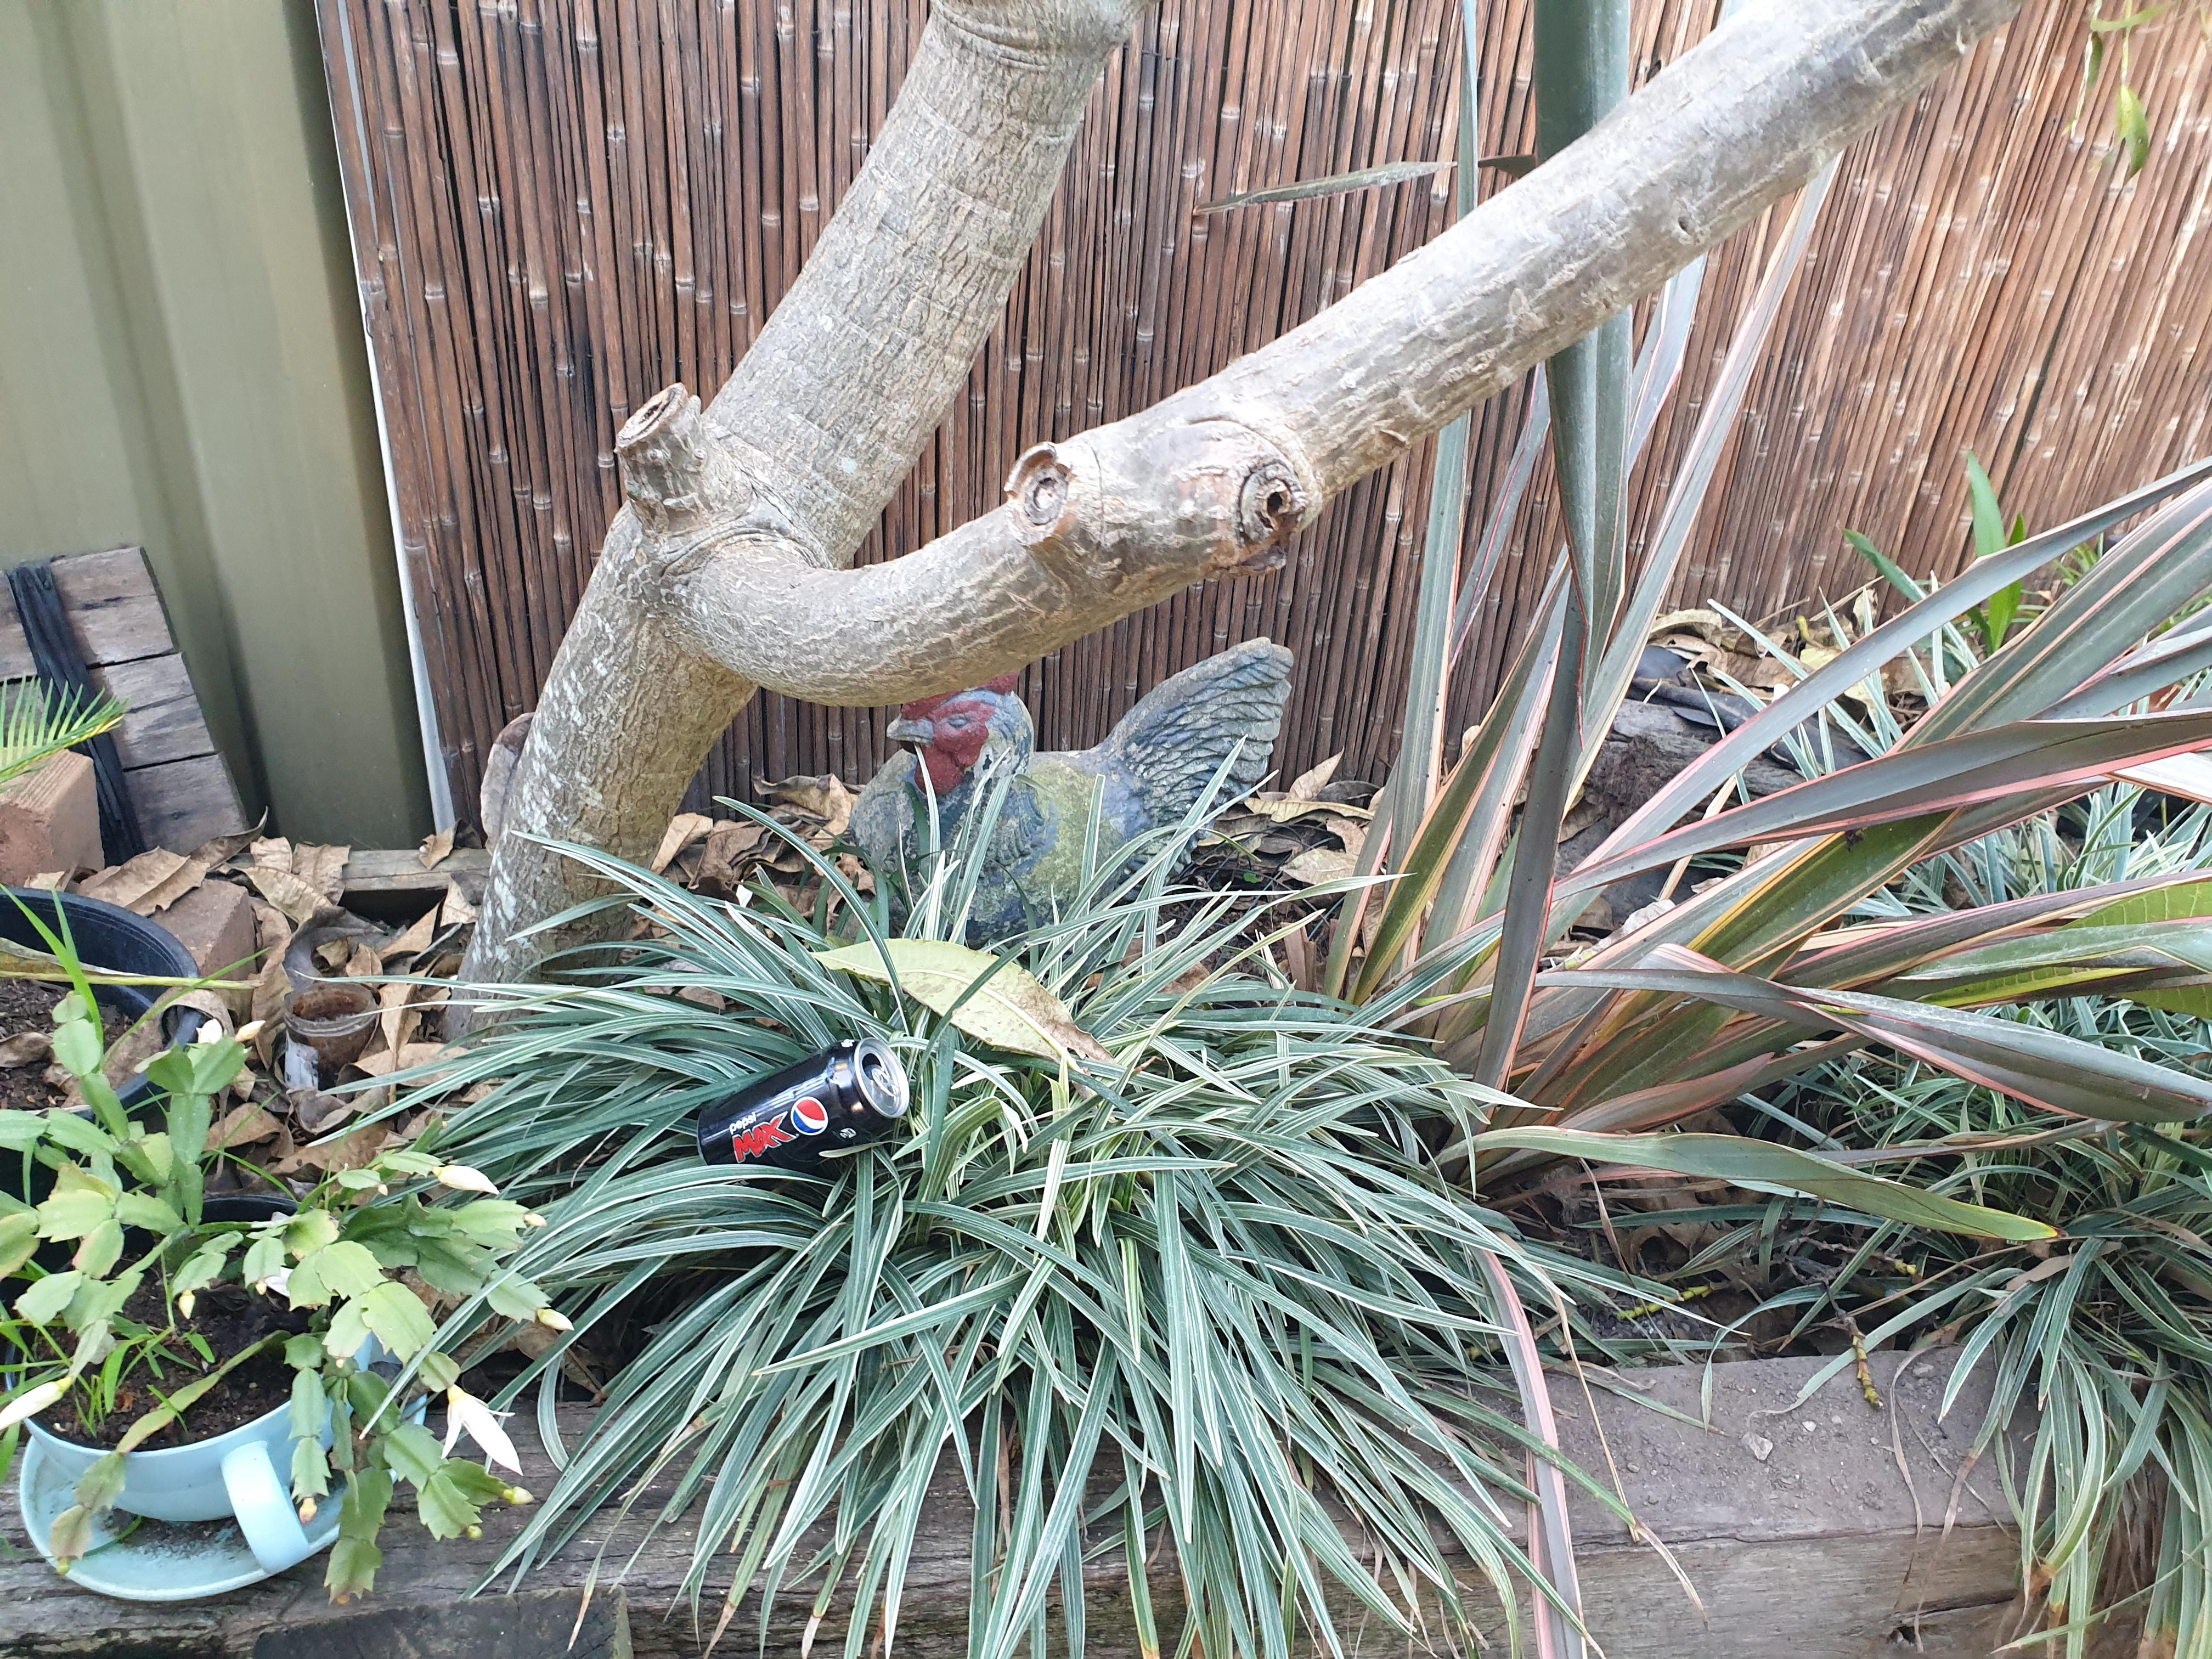Plastic Bottle: (697, 1037, 909, 1168)
